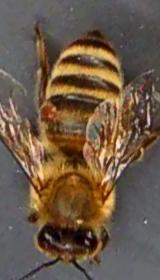varroa_mite: (32, 86, 62, 128)
